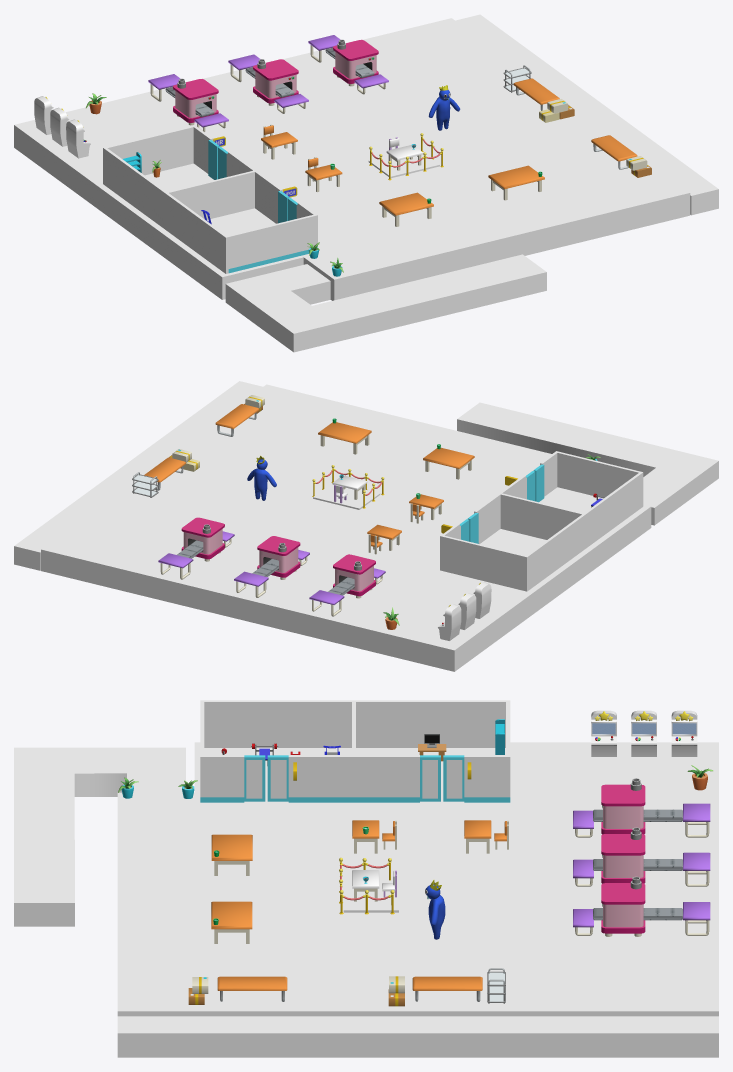
File: map_pizza_fix.FBX
The picture shows the model from 3 angles, top to bottom: view 1: azimuth 30°, elevation 25°; view 2: azimuth 150°, elevation 25°; view 3: azimuth 270°, elevation 25°; orthographic projection. The views are drawn at different scales.
Visible parts, largest first — view 1: platform, room, machine.006, machine.009, machine.003, gift wrap table, separator, big table.001, big table, 8.slot machine.003, rainbow_blue_body, 8.slot machine.001 (+1 smaller); view 2: platform, room, machine.009, machine.006, machine.003, separator, gift wrap table, big table.001, big table, rainbow_blue_body, 8.slot machine.001, simplePipe3.001 (+4 smaller); view 3: platform, room, machine.009, gift wrap table, machine.003, machine.006, separator, big table.001, big table, 8.slot machine.001, 8.slot machine.003, 8.slot machine.002 (+15 smaller).
Part boxes in pixels (<box>): platform: <box>14,14,718,352</box>; room: <box>103,125,317,273</box>; machine.006: <box>253,59,298,105</box>; machine.009: <box>333,39,378,86</box>; machine.003: <box>173,78,218,125</box>; gift wrap table: <box>513,78,637,169</box>; separator: <box>368,133,443,180</box>; big table.001: <box>488,165,544,200</box>; big table: <box>379,192,433,226</box>; 8.slot machine.003: <box>66,119,90,158</box>; rainbow_blue_body: <box>428,85,460,130</box>; 8.slot machine.001: <box>34,96,53,134</box>; platform: <box>14,381,718,671</box>; room: <box>440,451,643,591</box>; machine.009: <box>181,517,224,561</box>; machine.006: <box>257,536,300,579</box>; machine.003: <box>333,554,375,598</box>; separator: <box>312,465,384,509</box>; gift wrap table: <box>144,404,258,490</box>; big table.001: <box>318,418,371,454</box>; big table: <box>423,444,474,479</box>; rainbow_blue_body: <box>247,455,276,500</box>; 8.slot machine.001: <box>438,604,461,640</box>; simplePipe3.001: <box>132,472,158,497</box>; platform: <box>14,742,718,1057</box>; room: <box>200,700,510,802</box>; machine.009: <box>601,876,645,936</box>; gift wrap table: <box>217,976,482,1001</box>; machine.003: <box>601,778,645,834</box>; machine.006: <box>601,827,645,883</box>; separator: <box>339,857,398,914</box>; big table.001: <box>211,901,252,943</box>; big table: <box>211,834,252,875</box>; 8.slot machine.001: <box>671,710,697,756</box>; 8.slot machine.003: <box>591,710,616,756</box>; 8.slot machine.002: <box>631,710,656,756</box>.
Bounding box in the file's own units: 64.24 × 8.94 × 66.78.
